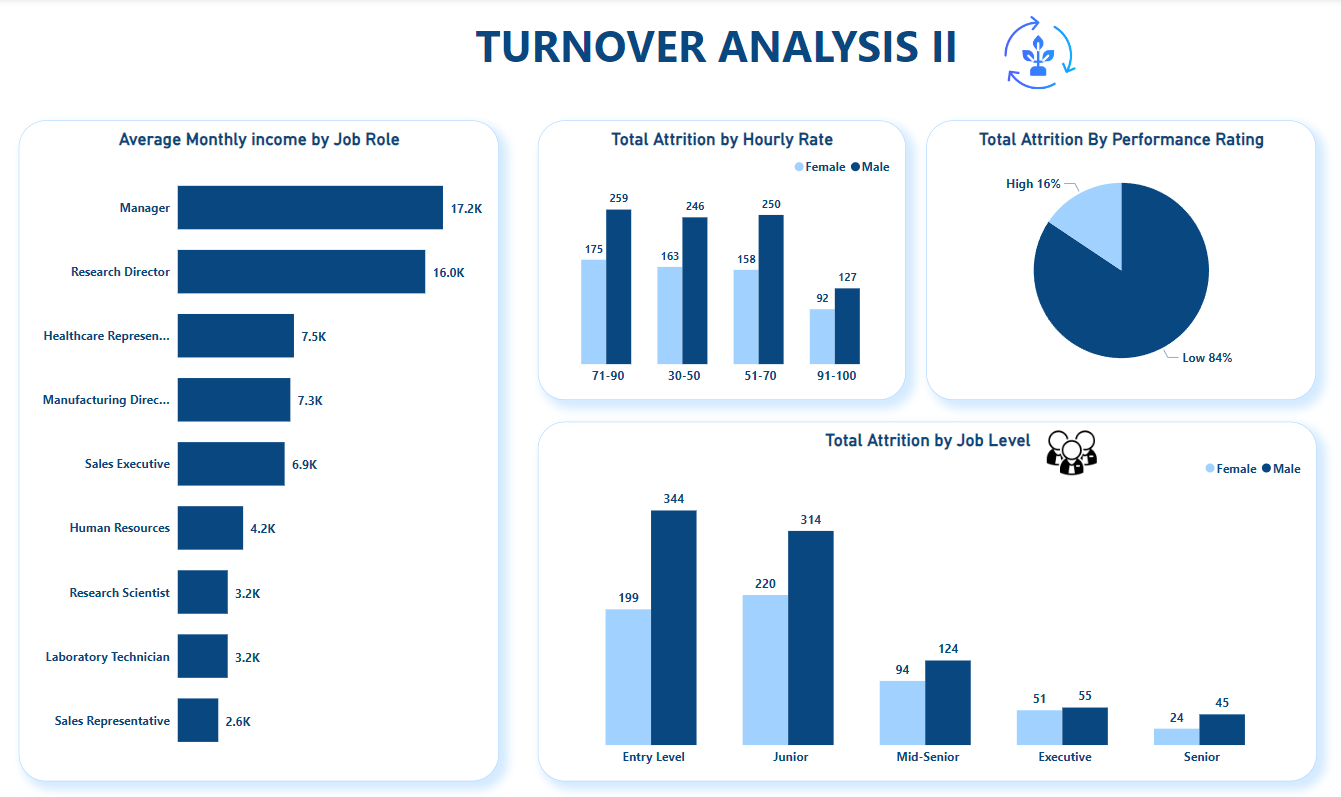

This screenshot's page, from the dashboard's own definition file:
{"tool":"powerbi","page":{"name":"TURNOVER-2","canvas":[1500,900],"ordinal":3},"visuals":[{"type":"barChart","title":"Average Monthly income by Job Role","fields":{"Category":["HR-Employee-Attrition.JobRole"],"Y":["Avg(HR-Employee-Attrition.MonthlyIncome)"]},"box":[24,136.9,535.4,737.1],"z":0},{"type":"pieChart","title":"Total Attrition By Performance Rating","fields":{"Y":["Sum(HR-Employee-Attrition.Attrition number)"],"Category":["HR-Employee-Attrition.PerformanceRating (groups)"]},"box":[1037.2,136.9,434.6,312.1],"z":1000},{"type":"clusteredColumnChart","title":"Total Attrition by Job Level","fields":{"Category":["HR-Employee-Attrition.JobLevel (groups)"],"Y":["Sum(HR-Employee-Attrition.EmployeeCount)"],"Series":["HR-Employee-Attrition.Gender"]},"box":[602.6,473,869.1,401],"z":2000},{"type":"clusteredColumnChart","title":"Total Attrition by Hourly Rate","fields":{"Y":["CountNonNull(HR-Employee-Attrition.Attrition)"],"Series":["HR-Employee-Attrition.Gender"],"Category":["HR-Employee-Attrition.HourlyRate (groups)"]},"box":[602.6,136.9,410.6,312.1],"z":3000},{"type":"textbox","box":[244.1,16,1115.5,148.3],"z":4000},{"type":"image","box":[1164.4,473,69.6,69.6],"z":5000},{"type":"image","box":[1116.4,16.8,96,91.2],"z":6000}]}

Visuals, with their boxes in screenshot pixels (x1, y1, x2, y2), scaled from the page's 1500x900 canvas onto the 1341x797 screenshot:
"Average Monthly income by Job Role" barChart: BBox(21, 121, 500, 774)
"Total Attrition By Performance Rating" pieChart: BBox(927, 121, 1316, 398)
"Total Attrition by Job Level" clusteredColumnChart: BBox(539, 419, 1316, 774)
"Total Attrition by Hourly Rate" clusteredColumnChart: BBox(539, 121, 906, 398)
textbox: BBox(218, 14, 1215, 145)
image: BBox(1041, 419, 1103, 481)
image: BBox(998, 15, 1084, 96)
